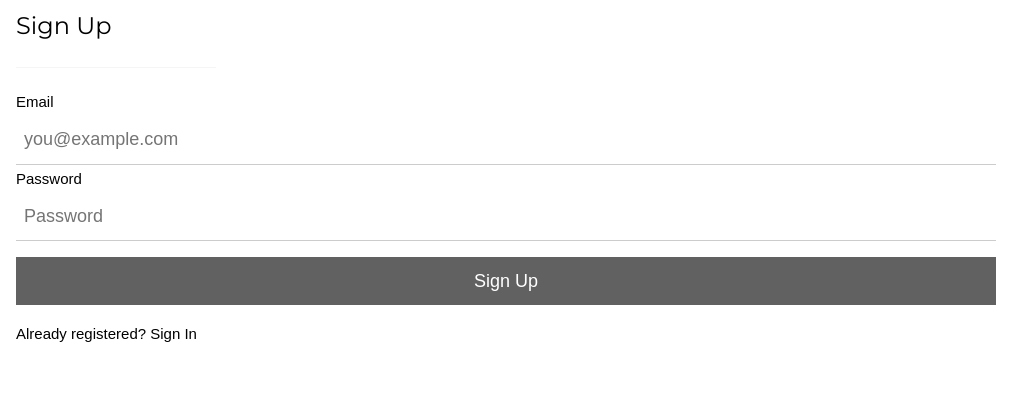
it: Signup › should clear password after successful signup
Type "test@example.com" into the field labelled "Email" at (506, 140), box left=16, top=115, right=996, bottom=165
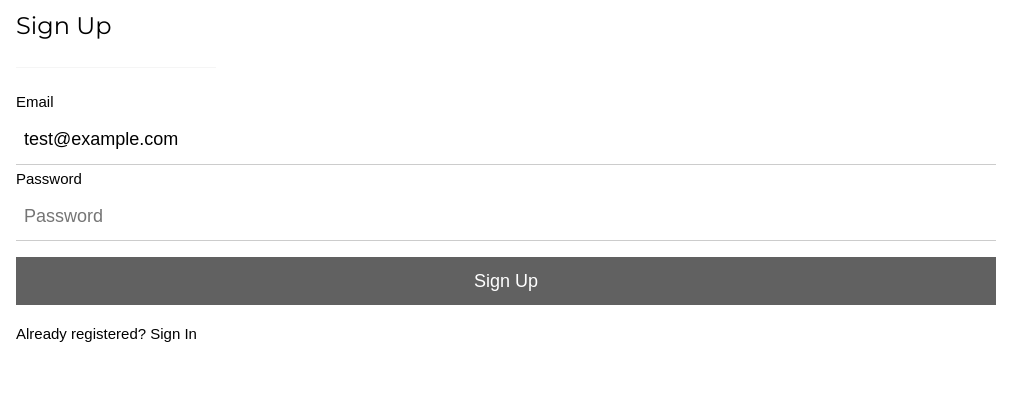
Type "password123" into the password field labelled "Password" at (506, 216), box left=16, top=192, right=996, bottom=241
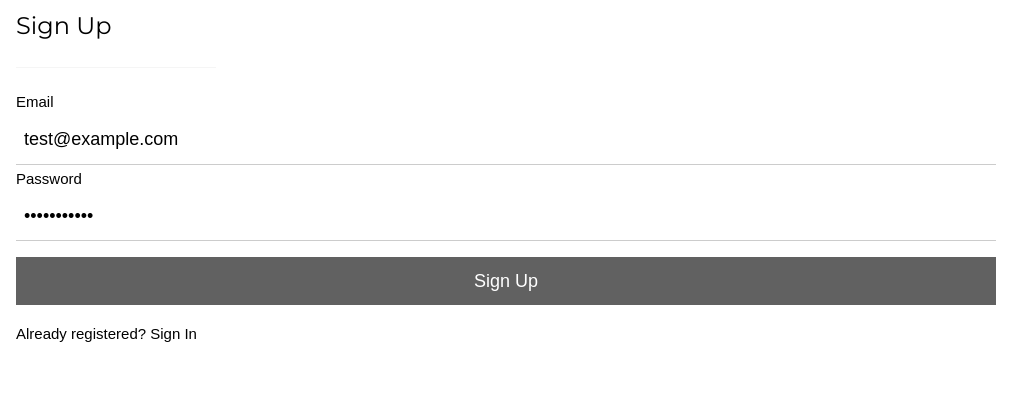
Click the button "Sign Up" at (506, 281), box left=16, top=257, right=996, bottom=305
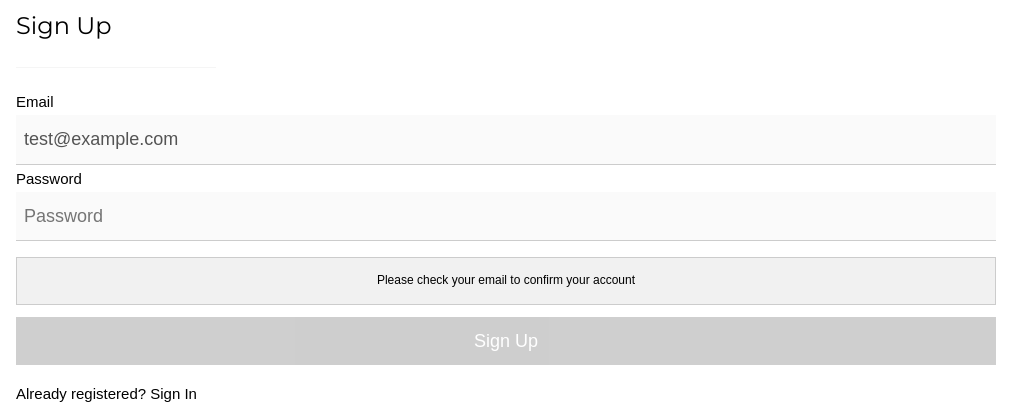
Result: the message "Please check your email to confirm your account" is shown at left=16, top=257, right=996, bottom=305
Result: the password field labelled "Password" is empty at left=16, top=192, right=996, bottom=241
